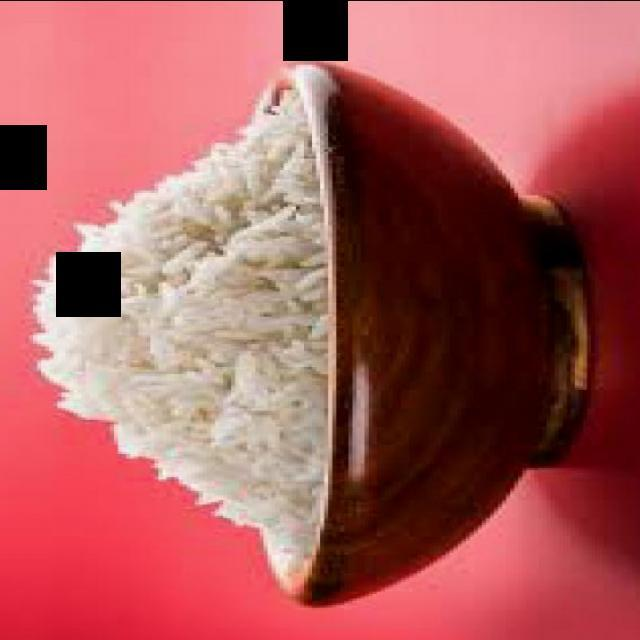rice: (31, 87, 333, 559)
